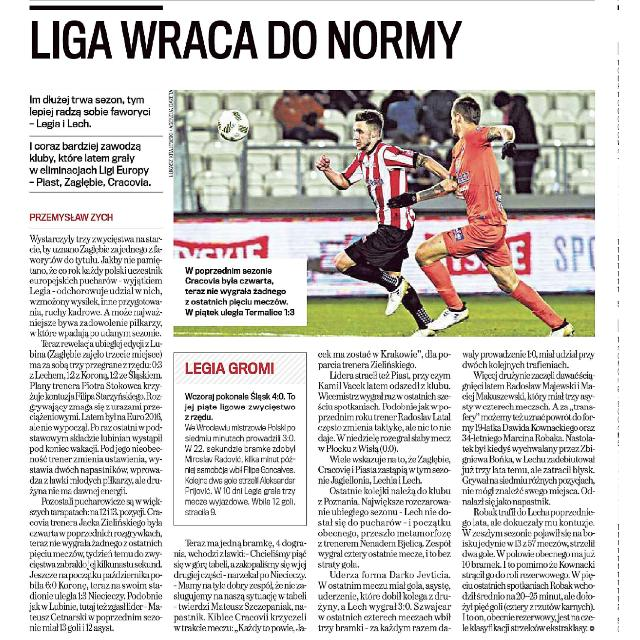author: (23, 210, 115, 224)
body: (24, 231, 164, 635), (458, 348, 598, 636), (314, 348, 454, 634), (168, 534, 310, 634)
caption: (178, 262, 300, 321)
image: (167, 85, 599, 341)
lead: (24, 91, 164, 190)
title: (28, 15, 466, 65)
